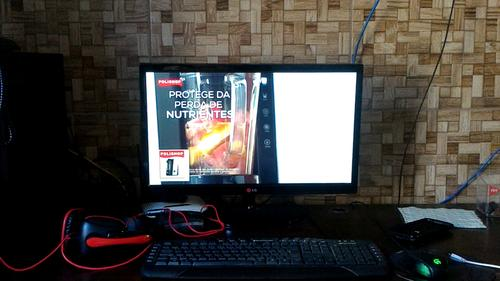Polishop #1: (155, 148, 190, 182)
